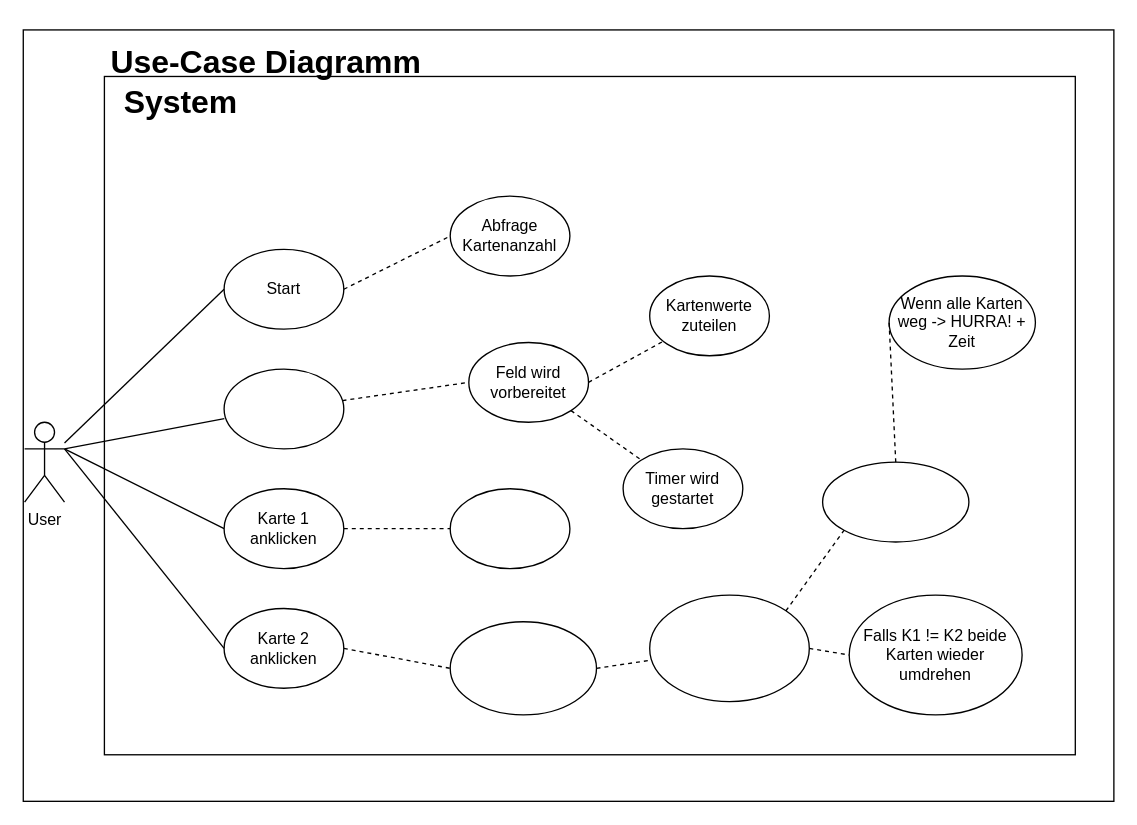
The diagram is 1137 pixels wide and 825 high, and some of its shapes have lost their labels. Here are the shapes that lost their labels. From the top down, the box of each, then its label:
(223, 368, 344, 449): Paaranzahl auswählen
(821, 461, 969, 542): Falls K1 == K2 beide Karten weg
(449, 487, 570, 569): Karte 1 wird angezeigt
(449, 620, 597, 715): Karte 2 wird angezeigt + mit K1 verglichen
(648, 594, 809, 702): 2 Sekunden warten und Interaktion blockieren
